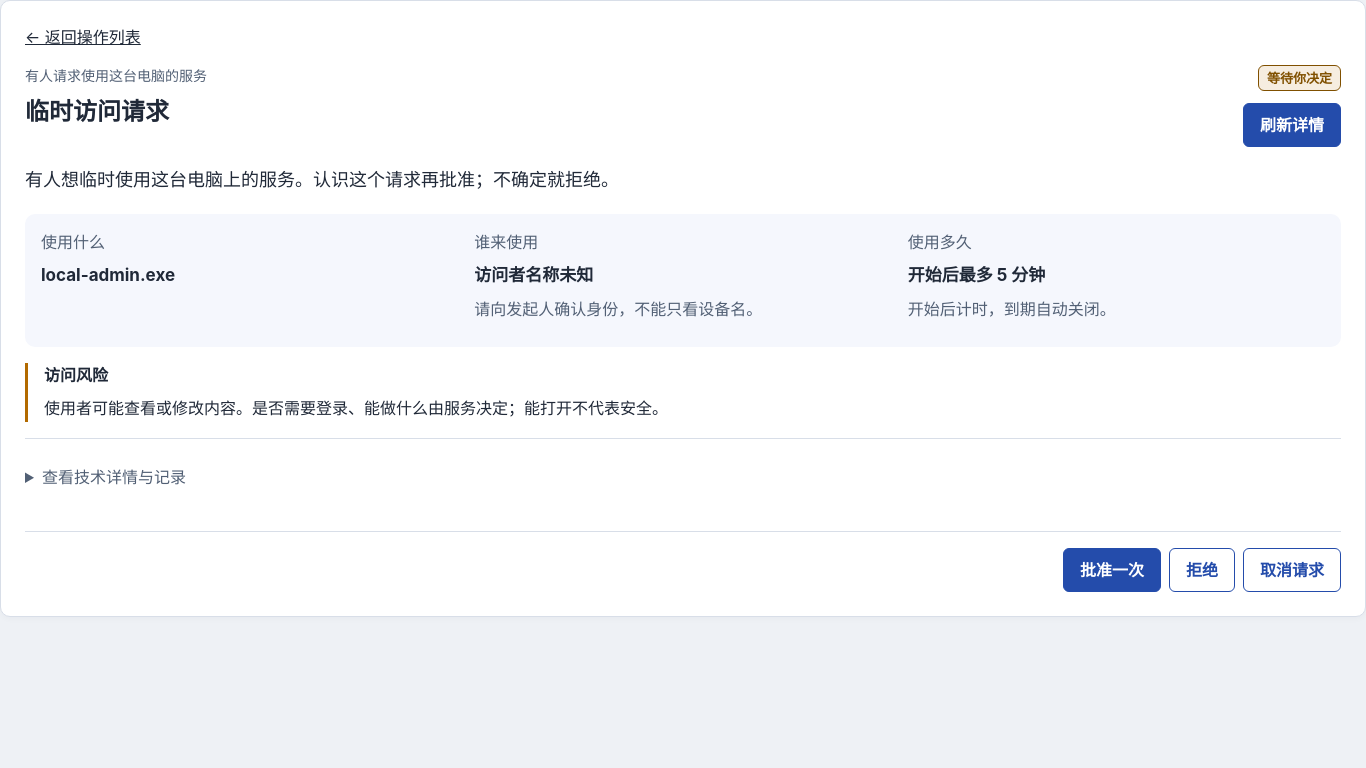
Test: OperationDetailPage › 复读发现批准已经过期时不打开确认框也不写入
Step 1. Click the button "批准一次" → [1112, 570], box [1063,548,1161,592]
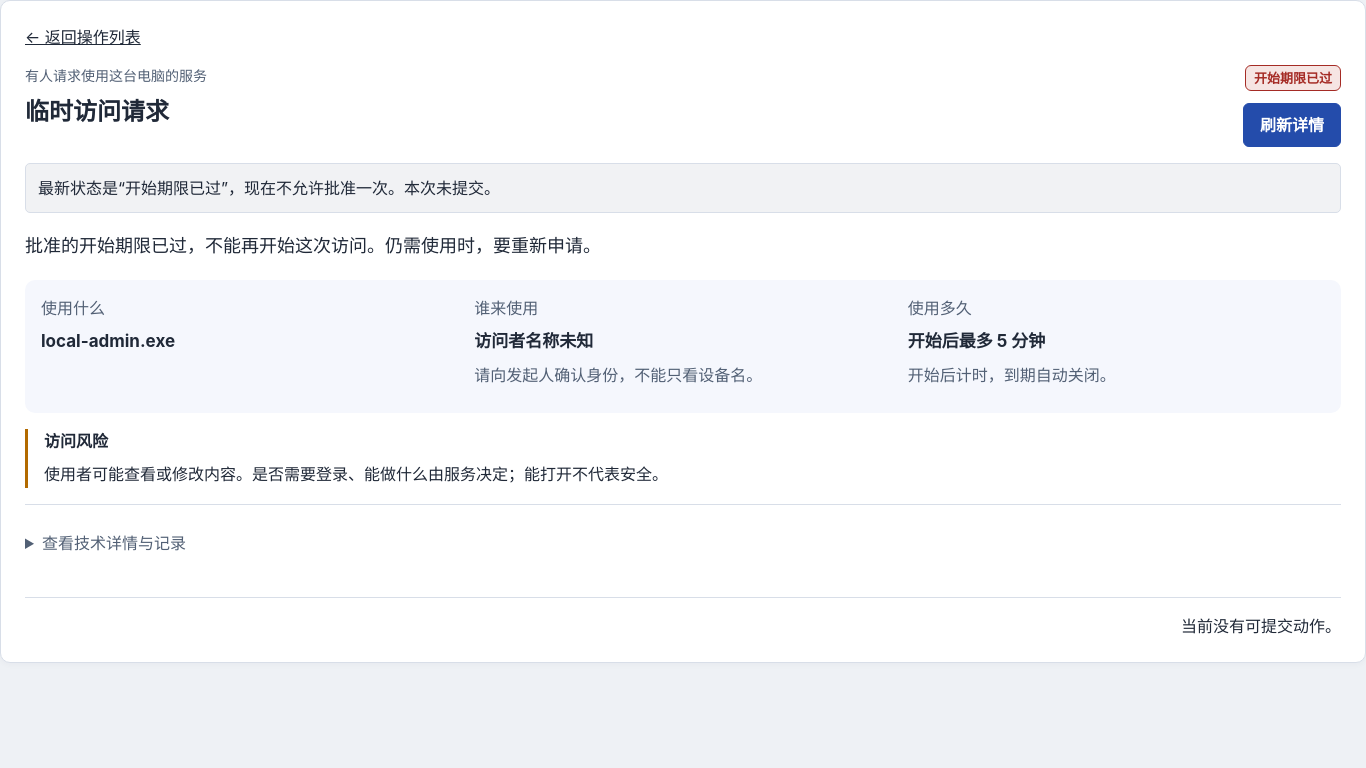
Now the text "最新状态是“开始期限已过”，现在不允许批准一次。本次未提交。" is shown, box [25,163,1341,213]
